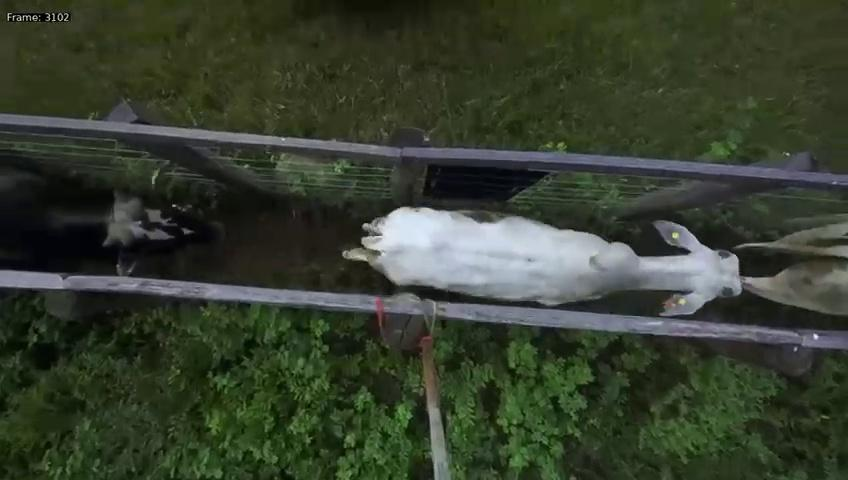cattle: (339, 192, 764, 328)
